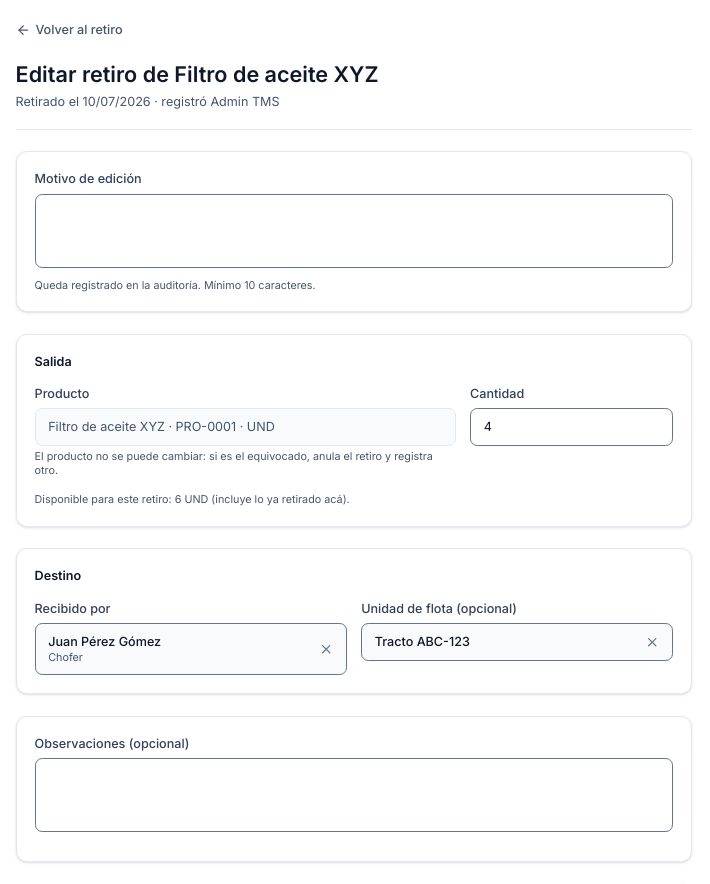
Test: WithdrawalEditPage › avisa cuando la cantidad supera el disponible real, sin bloquear el guardado
Step 1. Replace the text in the number field labelled "Cantidad" with "9" → (572, 427), box [470,408,673,446]
(page scrolled)
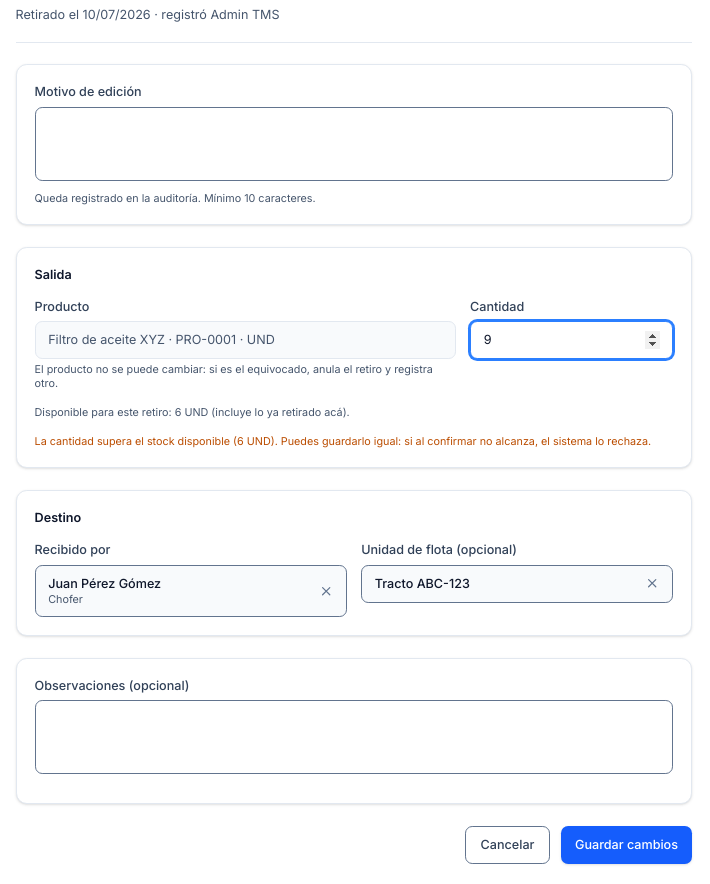
Check: the button "Guardar cambios" is enabled, box [561,826,692,864]
Check: the text "supera el stock disponible" is shown, box [35,435,237,448]
